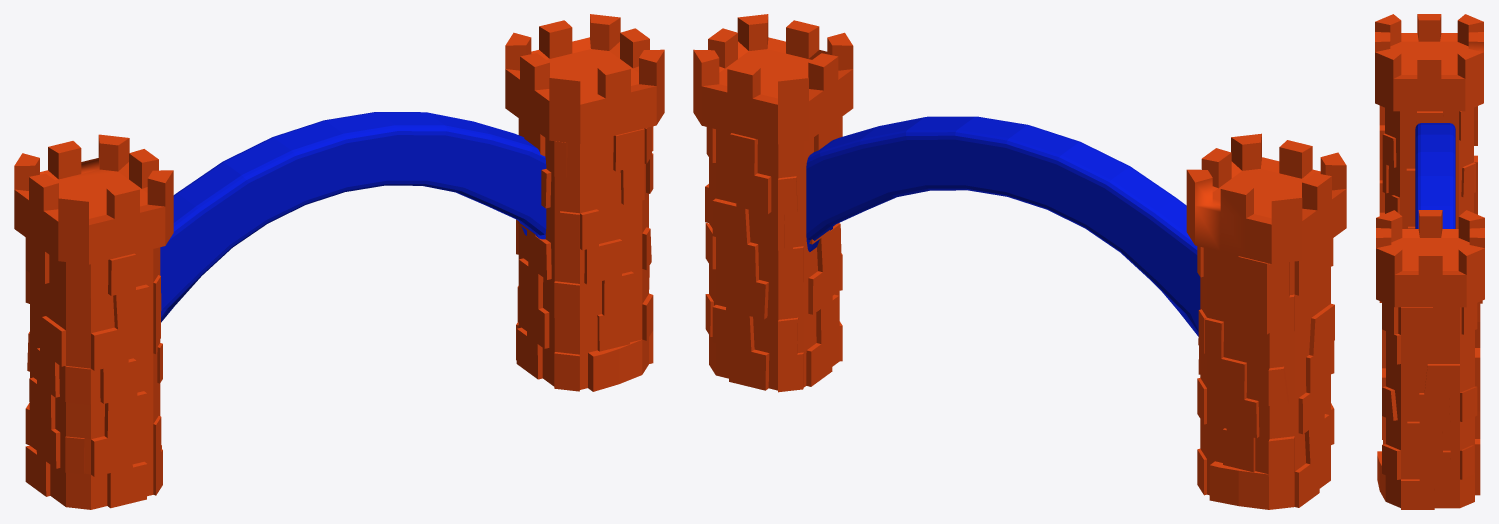
Rendered from torri.fbx.
The picture shows the model from 3 angles, left to right: view 1: azimuth 30°, elevation 25°; view 2: azimuth 150°, elevation 25°; view 3: azimuth 270°, elevation 25°; orthographic projection. The views are drawn at different scales.
Visible parts, largest first — view 1: Cube_008, Cube_007, Circle_034; view 2: Cube_008, Cube_007, Circle_034; view 3: Cube_007, Cube_008, Circle_034.
Part boxes in pixels (<box>): Cube_008: <box>14,134,173,509</box>; Cube_007: <box>505,14,664,391</box>; Circle_034: <box>160,112,546,322</box>; Cube_008: <box>1186,133,1346,509</box>; Cube_007: <box>693,14,853,392</box>; Circle_034: <box>806,116,1200,336</box>; Cube_007: <box>1376,210,1484,509</box>; Cube_008: <box>1375,14,1483,303</box>; Circle_034: <box>1415,123,1455,228</box>.
Size of the model in its own units: 1287 by 637 by 247.
